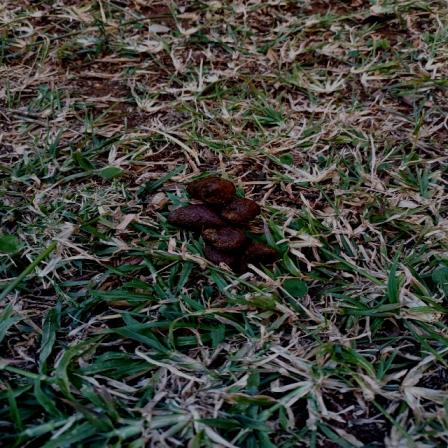dog-poop: (163, 168, 293, 280)
